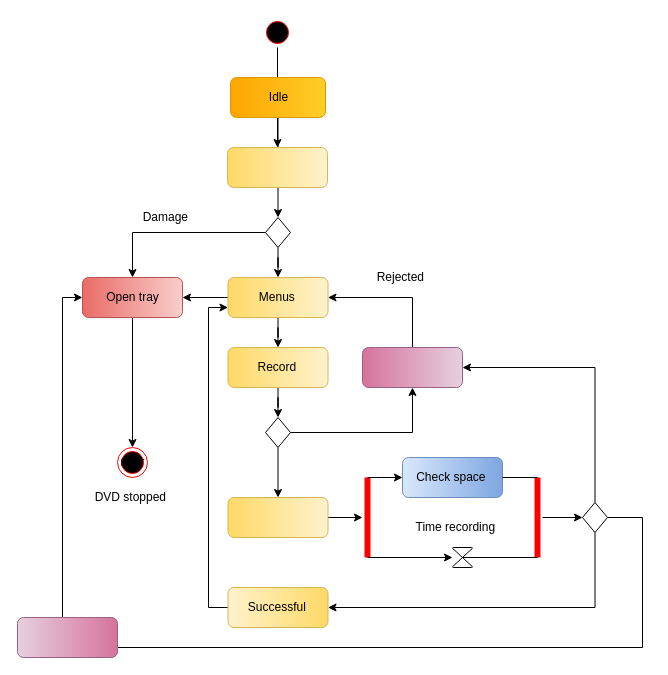
Image size: 668x675. Some labels were removed from this diagram. The centre of each missing label's shape, as x and y in pixels:
"Disc damaged" belongs at [67,637].
"full space" belongs at [412,367].
"loading DVD" belongs at [277,167].
"Recording" belongs at [277,517].
